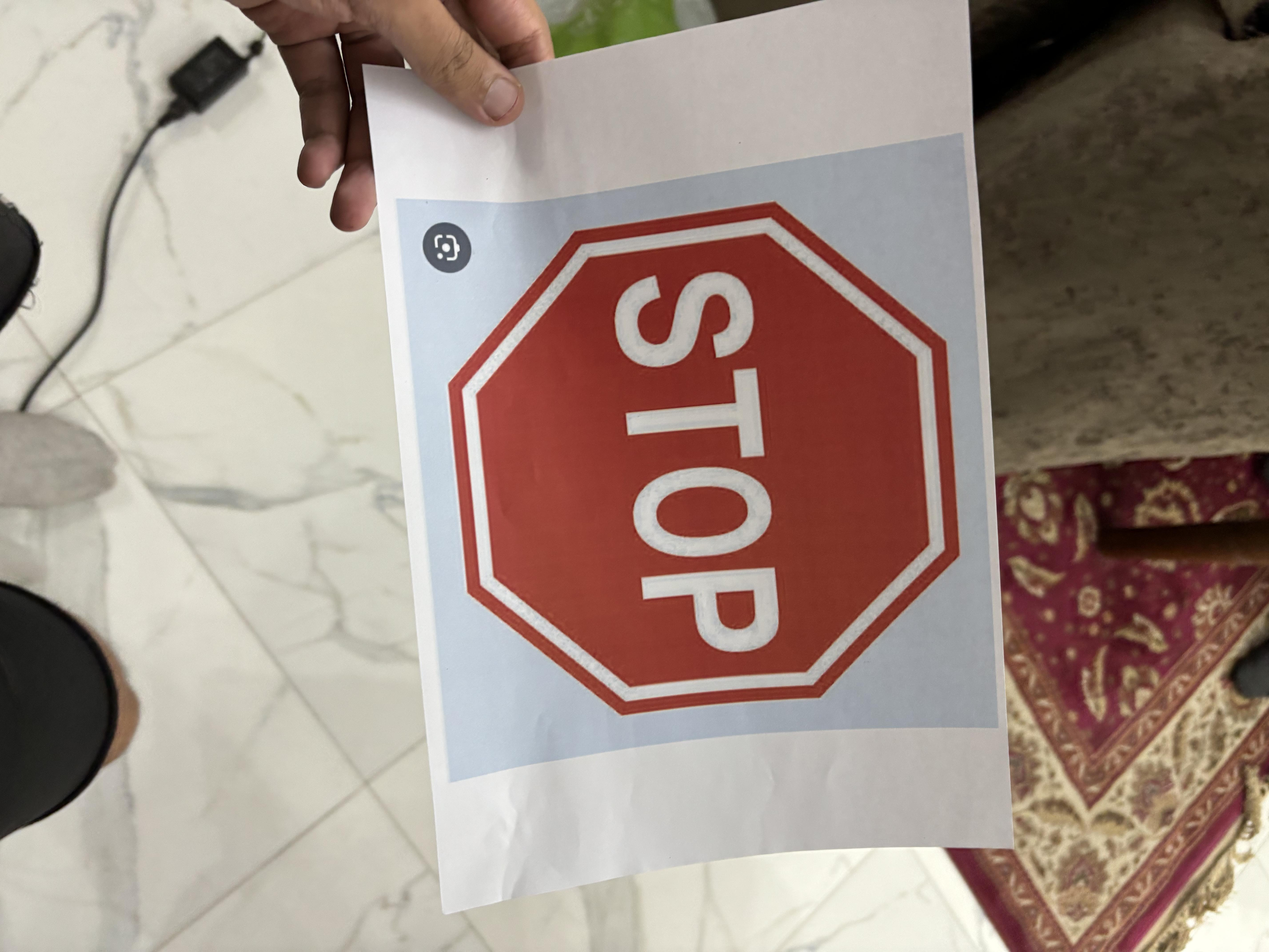Stop: (436, 200, 976, 729)
